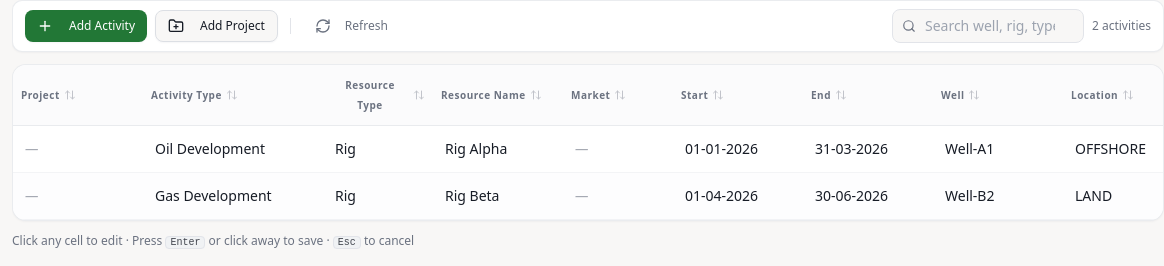
ActivityGrid › pressing Escape cancels edit without saving
Click the button "Well-A1". click: (998,149)
box: [937, 135, 1059, 163]
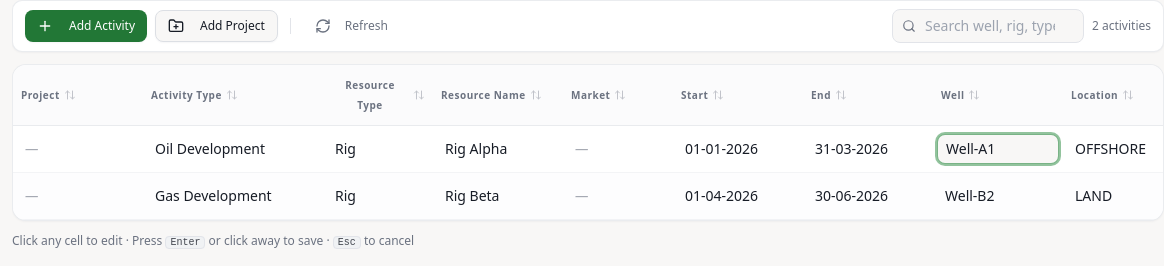
Replace the text in the field showing "Well-A1" with "Changed Well". click: (998,149)
box: [937, 134, 1059, 164]
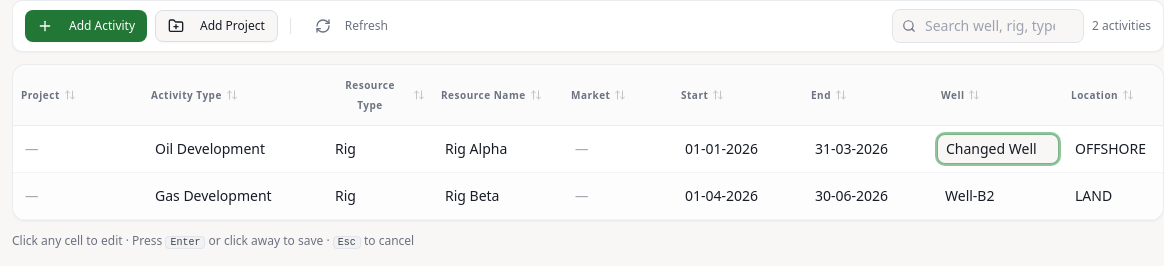
Press Escape
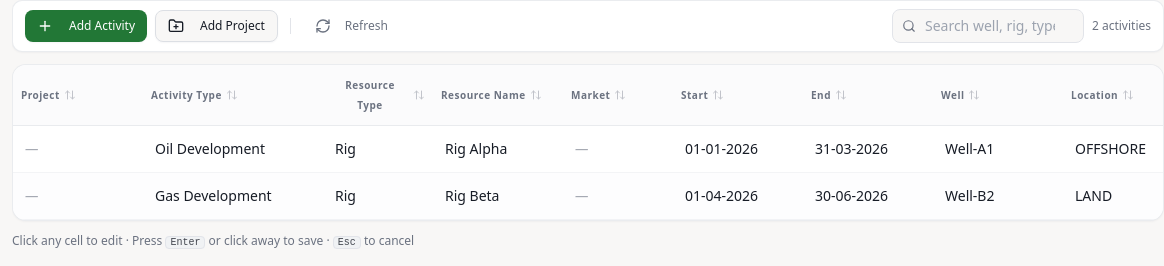
Check: the button "Well-A1" is shown, box [937, 135, 1059, 163]
